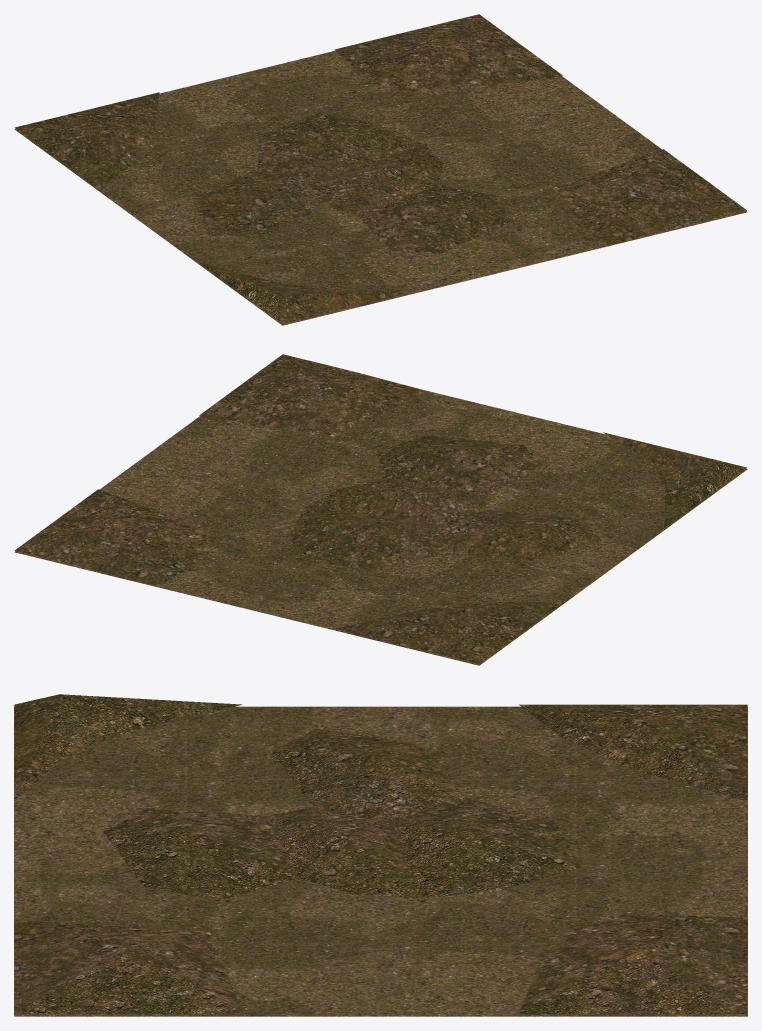
The model's file is Garden_03_Art.fbx.
3 views of the same model, one above another, from view 1: azimuth 30°, elevation 25°; view 2: azimuth 150°, elevation 25°; view 3: azimuth 270°, elevation 25° (orthographic). The views are drawn at different scales.
Parts seen in each view (by area): view 1: Garden_03_Art; view 2: Garden_03_Art; view 3: Garden_03_Art.
Boxes of the visible parts, x1=… form: Garden_03_Art: x1=14, y1=14, x2=747, y2=325; Garden_03_Art: x1=14, y1=354, x2=747, y2=665; Garden_03_Art: x1=14, y1=694, x2=747, y2=1016.
Size of the model in its own units: 1598 by 50.07 by 1598.
